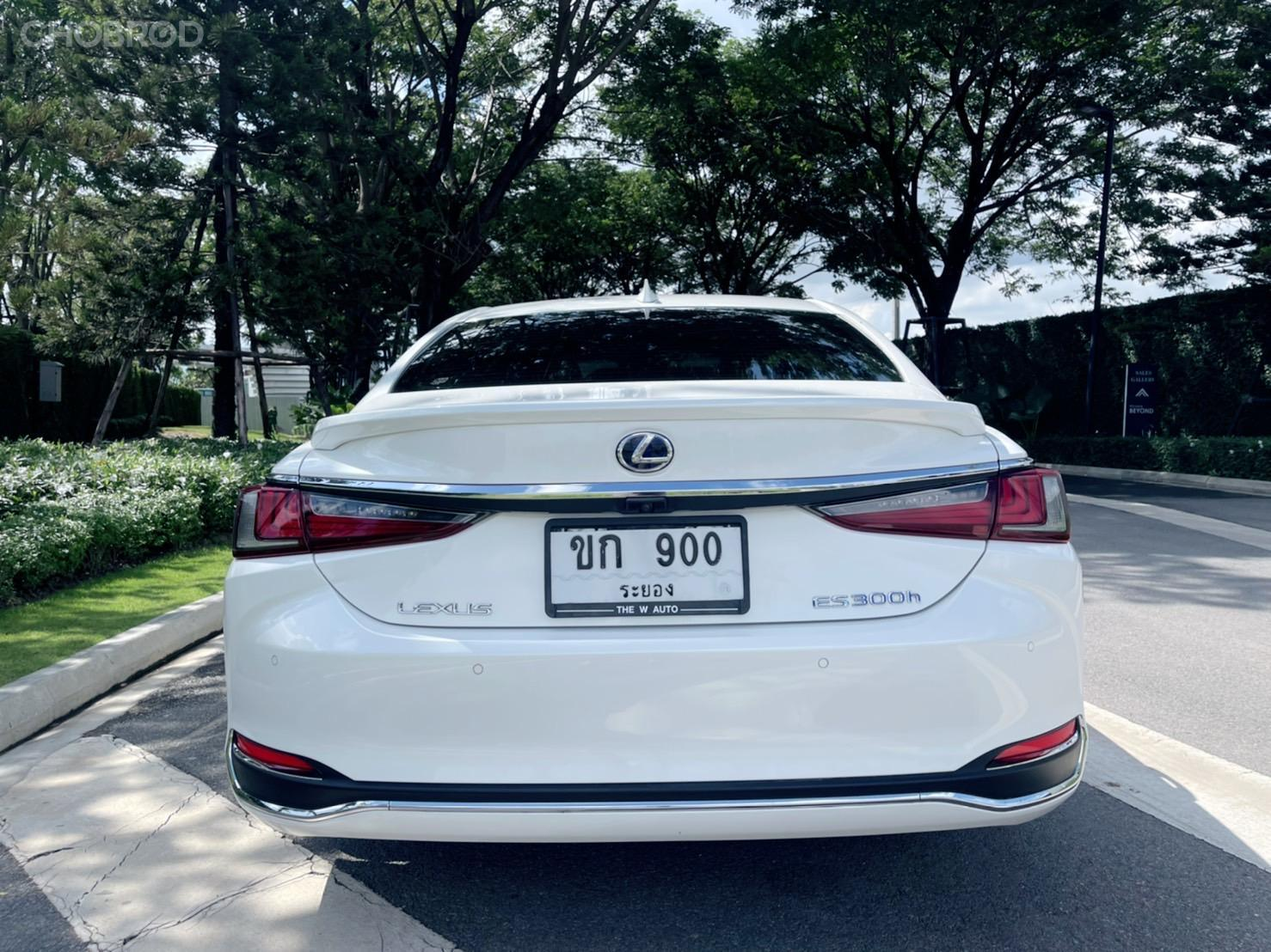license-plate: (545, 518, 751, 615)
